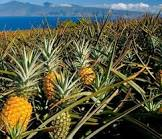Pineapple: (1, 49, 41, 135)
